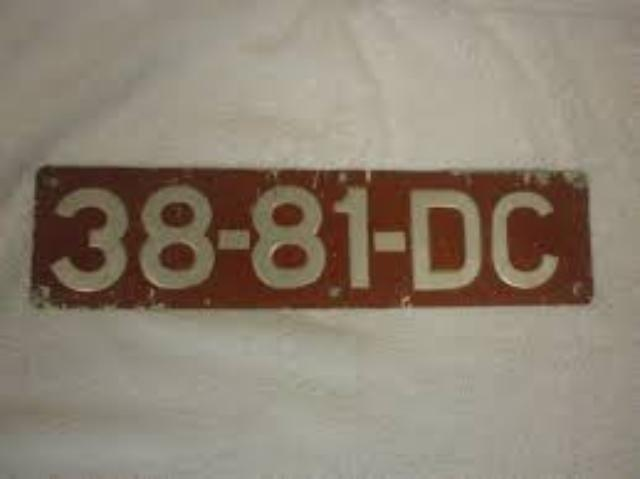License_Plate: (29, 165, 597, 311)
